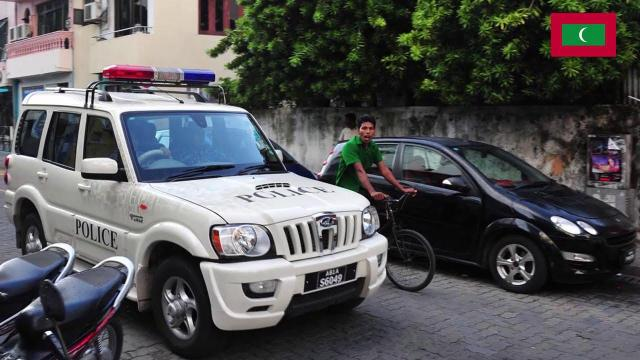police_car: (15, 66, 385, 360)
